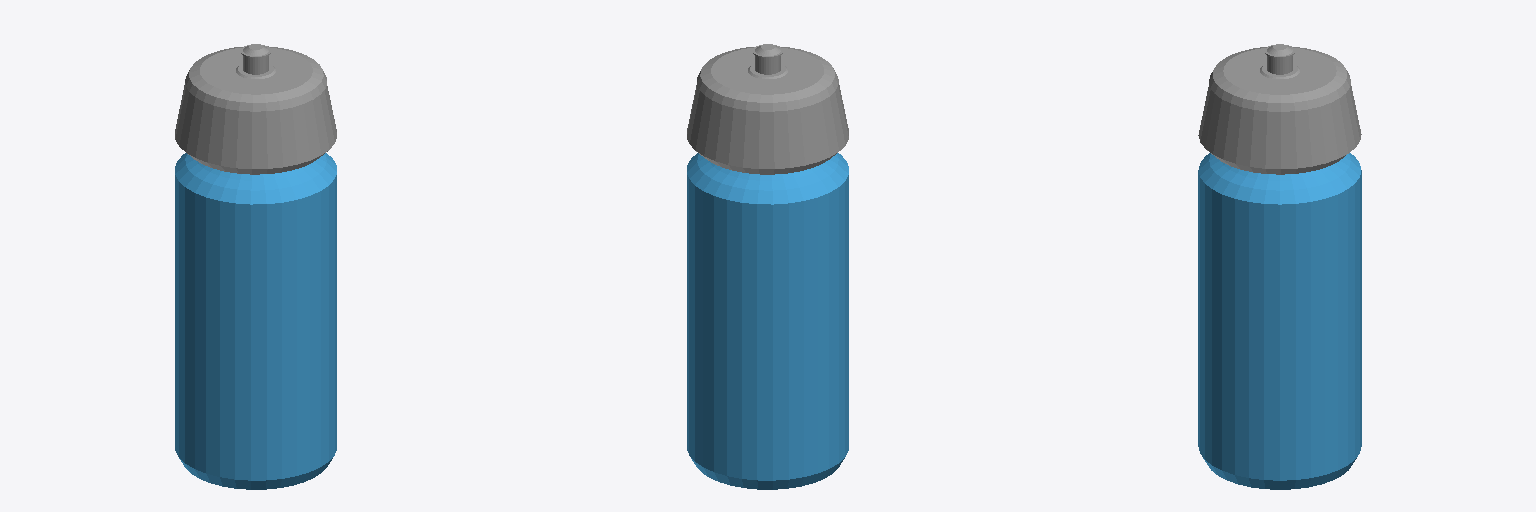
3 views of the same model, side by side, from view 1: azimuth 30°, elevation 25°; view 2: azimuth 150°, elevation 25°; view 3: azimuth 270°, elevation 25° (orthographic).
Parts seen in each view (by area): view 1: Cylinder, Cylinder.001_Cylinder.002, Cylinder.002_Cylinder.003, Cylinder.003_Cylinder.004; view 2: Cylinder, Cylinder.001_Cylinder.002, Cylinder.002_Cylinder.003, Cylinder.003_Cylinder.004; view 3: Cylinder, Cylinder.001_Cylinder.002, Cylinder.002_Cylinder.003, Cylinder.003_Cylinder.004.
Boxes of the visible parts, x1,y1,x2,y2 form: Cylinder: [175, 153, 336, 489]; Cylinder.001_Cylinder.002: [175, 83, 336, 174]; Cylinder.002_Cylinder.003: [185, 46, 326, 111]; Cylinder.003_Cylinder.004: [243, 44, 268, 74]; Cylinder: [687, 153, 848, 489]; Cylinder.001_Cylinder.002: [687, 84, 848, 174]; Cylinder.002_Cylinder.003: [697, 47, 838, 111]; Cylinder.003_Cylinder.004: [755, 44, 780, 74]; Cylinder: [1198, 153, 1361, 489]; Cylinder.001_Cylinder.002: [1198, 85, 1361, 174]; Cylinder.002_Cylinder.003: [1209, 47, 1350, 111]; Cylinder.003_Cylinder.004: [1267, 44, 1292, 74].
Size of the model in its own units: 2 by 5.65 by 2.
Materials: 3 (3 with a texture image).